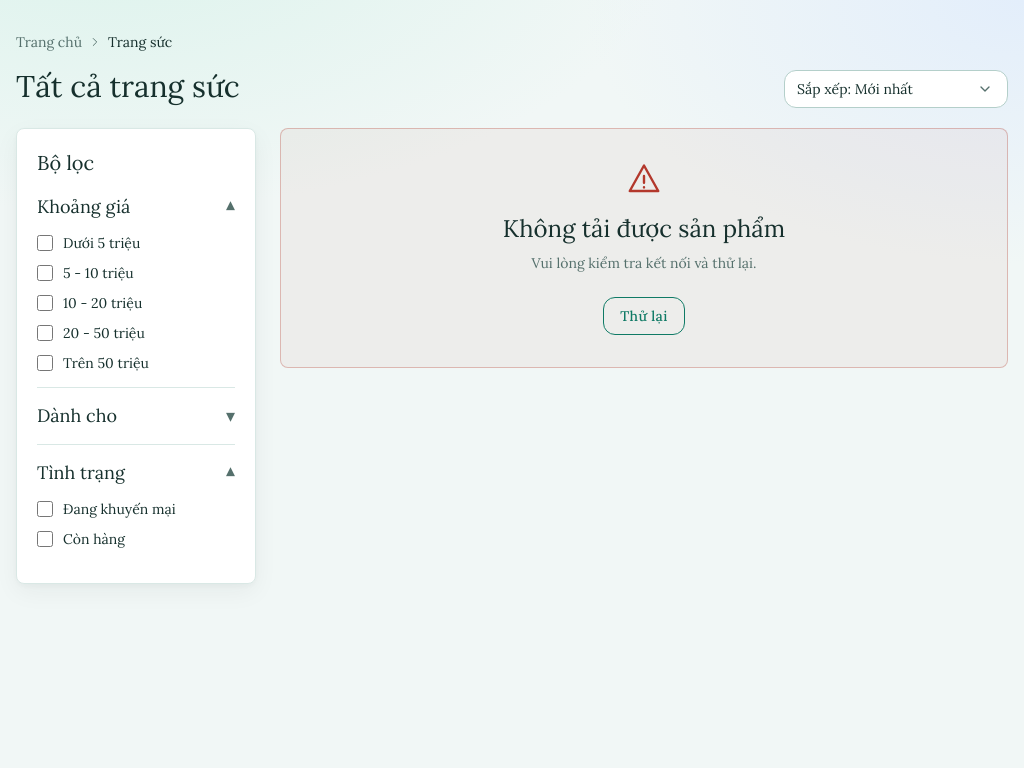
it: ProductListing › error state có nút thử lại gọi lại API
Click the button "Thử lại". click: [644, 316]
box: [603, 297, 685, 335]
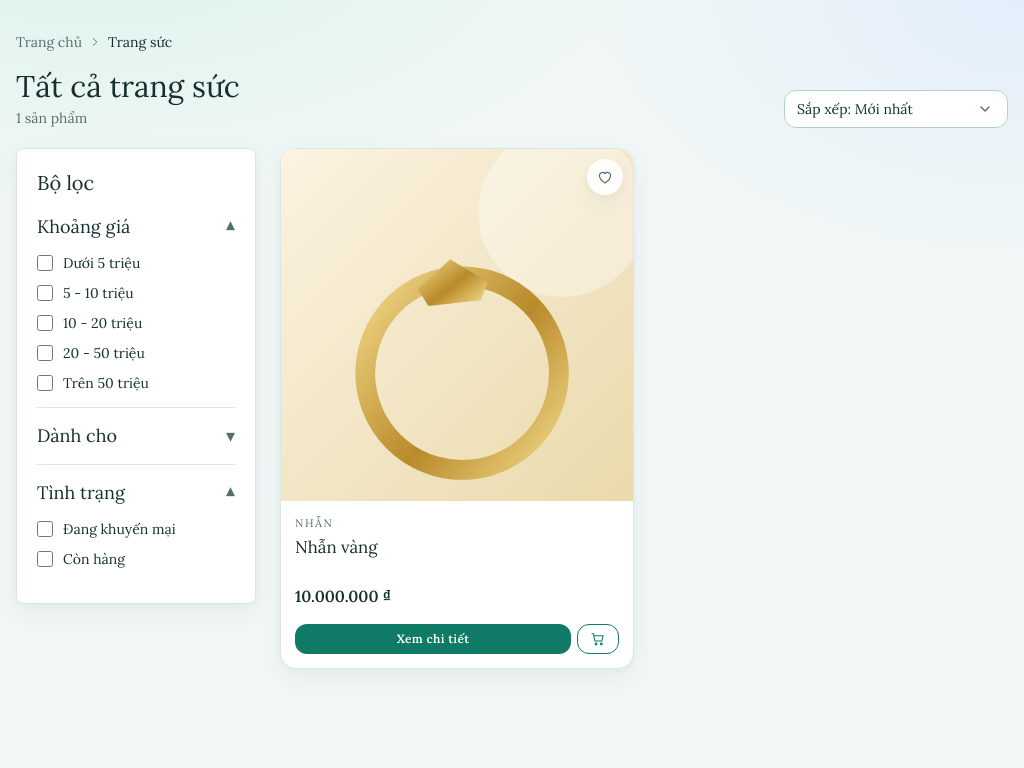
Check: the link "Nhẫn vàng" is shown, box [295, 536, 378, 558]
